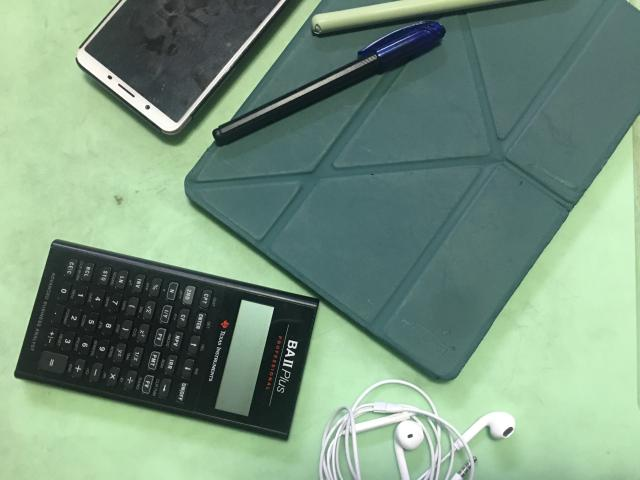Mobile phone: (76, 0, 288, 135)
Pen: (212, 21, 445, 146)
wire: (319, 380, 515, 480)
